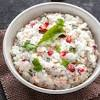curd_rice: (11, 13, 92, 95)
